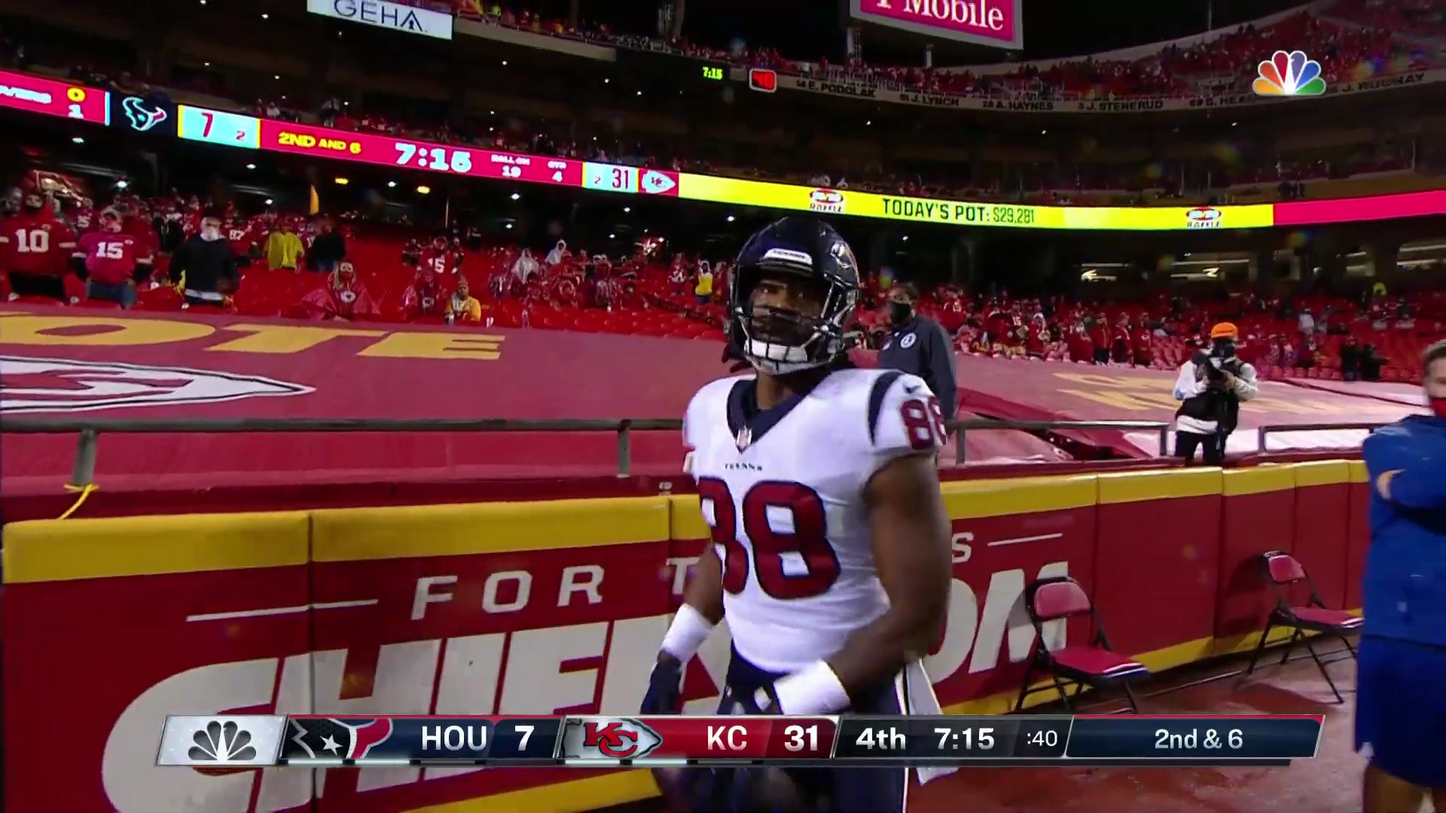Player: (648, 263, 985, 706), (1358, 366, 1446, 785)
